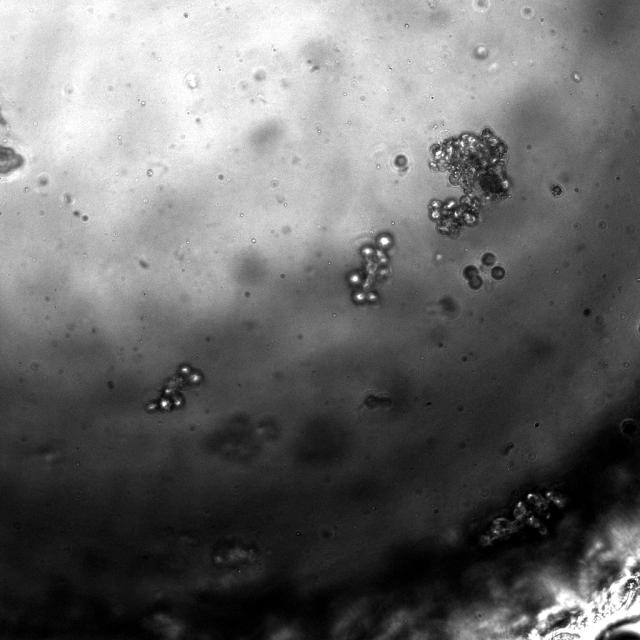organoid: (429, 127, 509, 237), (481, 491, 565, 545), (348, 232, 394, 303), (145, 363, 203, 412), (0, 145, 24, 174), (462, 264, 483, 290), (393, 153, 408, 170), (491, 264, 505, 280), (481, 252, 496, 266), (549, 183, 564, 197)
